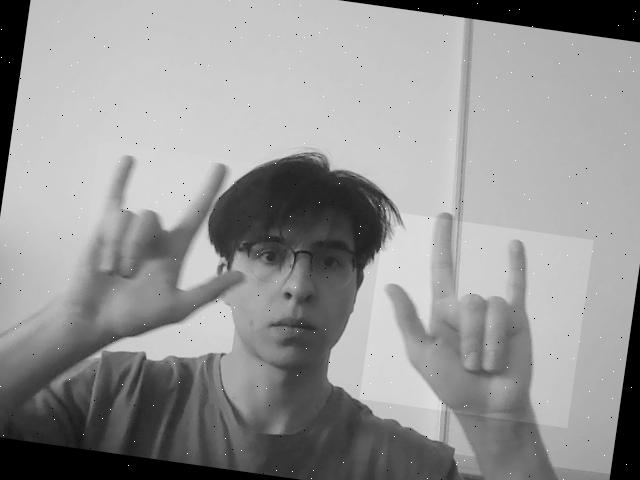I_Love_You: (360, 211, 594, 428), (75, 142, 274, 340)
